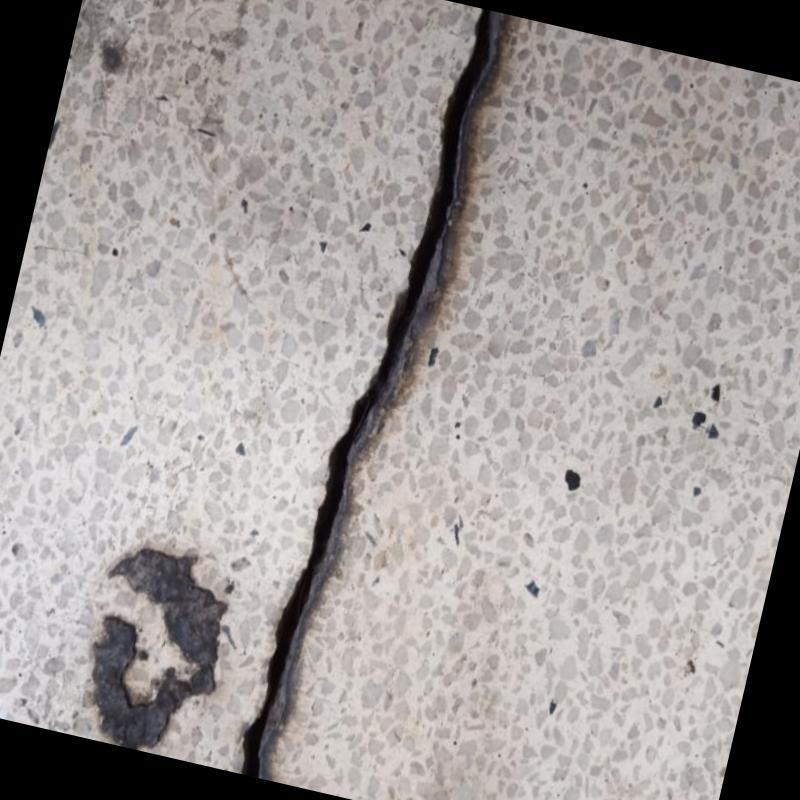pothole: (241, 8, 489, 776)
